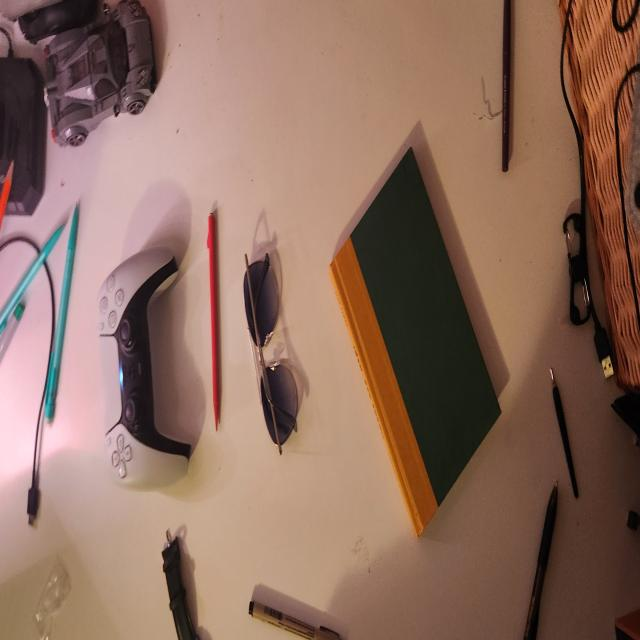Book: (347, 148, 502, 536)
Controller: (96, 226, 196, 488)
Glasses: (244, 237, 284, 445)
Pen: (26, 206, 81, 530), (205, 208, 222, 429)
